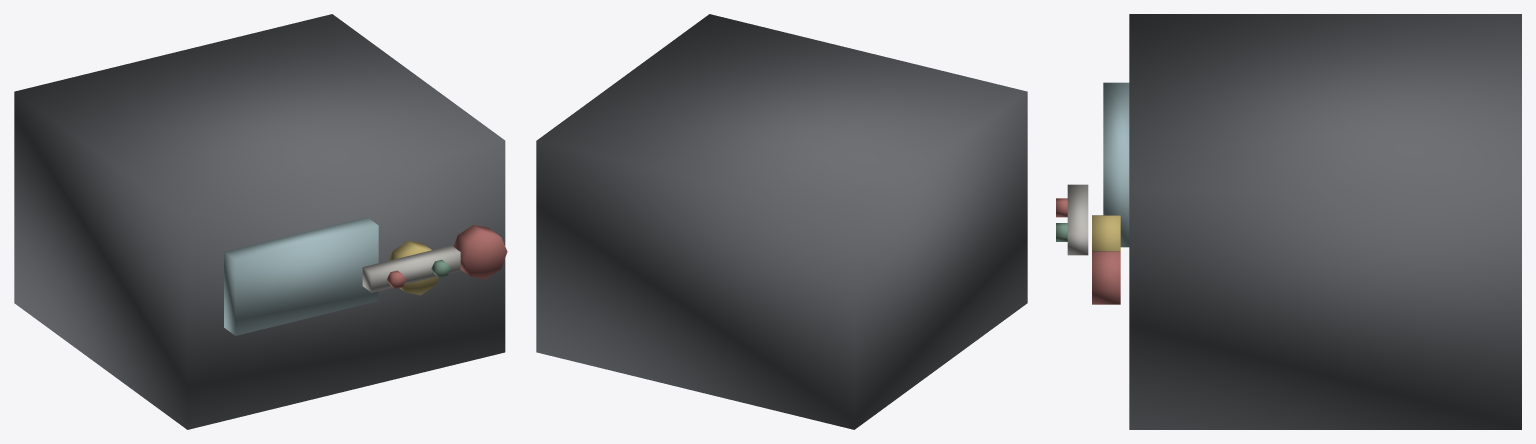
Rendered from component_tester__deep.glb.
The picture shows the model from 3 angles, left to right: view 1: azimuth 30°, elevation 25°; view 2: azimuth 150°, elevation 25°; view 3: azimuth 270°, elevation 25°; orthographic projection. The views are drawn at different scales.
Visible parts, largest first — view 1: world; view 2: world; view 3: world.
Boxes of the visible parts, x1,y1,x2,y2 form: world: (14, 14, 507, 429); world: (536, 14, 1027, 429); world: (1056, 14, 1521, 429).
Bounding box in the file's own units: 0.44 × 0.28 × 0.4923.
